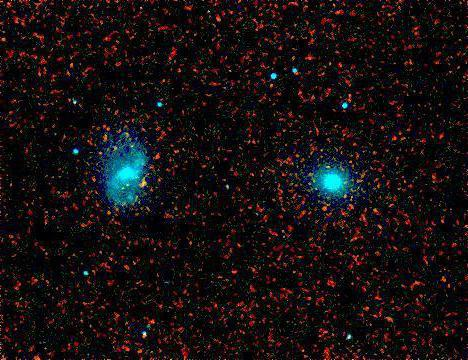star: (130, 170, 160, 200)
